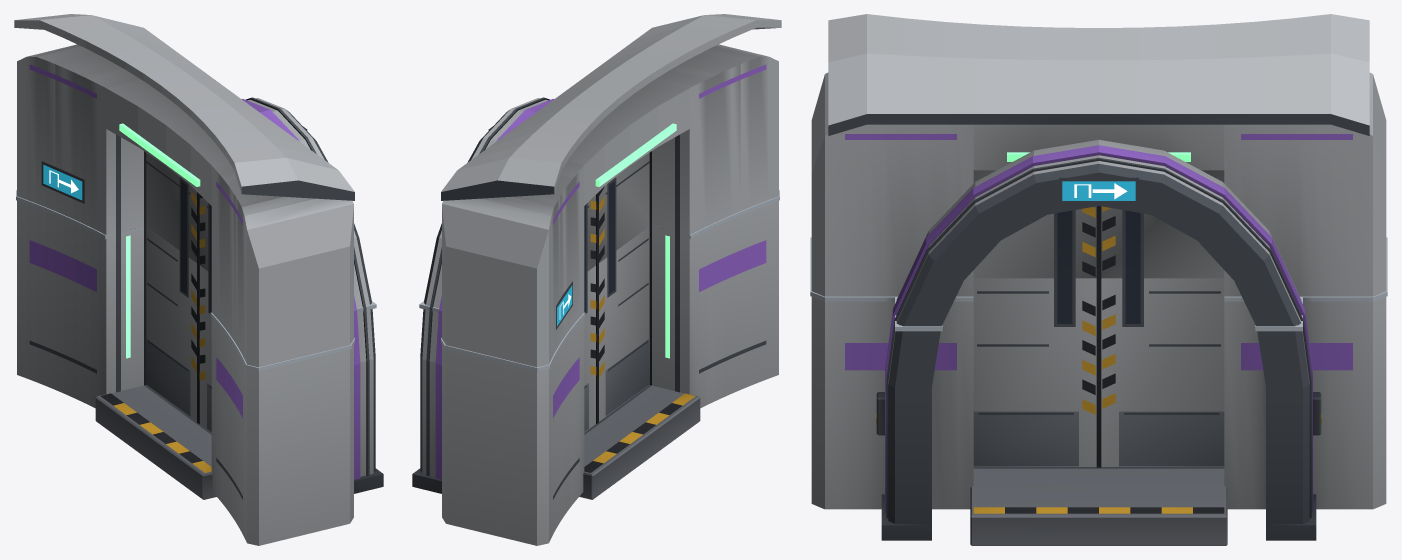
Rendered from doorway_r550.glb.
The picture shows the model from 3 angles, left to right: view 1: azimuth 30°, elevation 25°; view 2: azimuth 150°, elevation 25°; view 3: azimuth 270°, elevation 25°; orthographic projection. The views are drawn at different scales.
Visible parts, largest first — view 1: FrameTop, Frame, DoorR, DoorRTop, DoorL, FrameCap, Sign, DoorLTop, Status, Lights; view 2: FrameTop, Frame, DoorL, DoorLTop, DoorR, FrameCap, DoorRTop, Status, Lights, Sign; view 3: FrameTop, Frame, DoorL, DoorR, DoorLTop, DoorRTop, FrameCap, Sign.
Boxes of the visible parts, bbox=[...] form: FrameTop: bbox=[14, 14, 371, 367]; Frame: bbox=[17, 200, 383, 545]; DoorR: bbox=[146, 226, 197, 422]; DoorRTop: bbox=[146, 153, 197, 264]; DoorL: bbox=[198, 265, 211, 432]; FrameCap: bbox=[16, 190, 376, 371]; Sign: bbox=[41, 126, 307, 203]; DoorLTop: bbox=[198, 193, 211, 274]; Status: bbox=[119, 123, 200, 186]; Lights: bbox=[126, 235, 130, 358]; FrameTop: bbox=[424, 14, 781, 367]; Frame: bbox=[412, 200, 778, 545]; DoorL: bbox=[598, 226, 649, 422]; DoorLTop: bbox=[598, 153, 649, 264]; DoorR: bbox=[584, 265, 597, 432]; FrameCap: bbox=[419, 190, 779, 371]; DoorRTop: bbox=[584, 193, 597, 274]; Status: bbox=[595, 123, 676, 186]; Lights: bbox=[665, 235, 669, 358]; Sign: bbox=[488, 126, 572, 329]; FrameTop: bbox=[811, 14, 1386, 326]; Frame: bbox=[811, 297, 1386, 545]; DoorL: bbox=[973, 278, 1098, 467]; DoorR: bbox=[1099, 278, 1224, 467]; DoorLTop: bbox=[973, 170, 1098, 278]; DoorRTop: bbox=[1099, 170, 1224, 278]; FrameCap: bbox=[810, 237, 1387, 331]; Sign: bbox=[1059, 177, 1138, 203].
Size of the model in its own units: 1.35 by 2.93 by 3.46.
